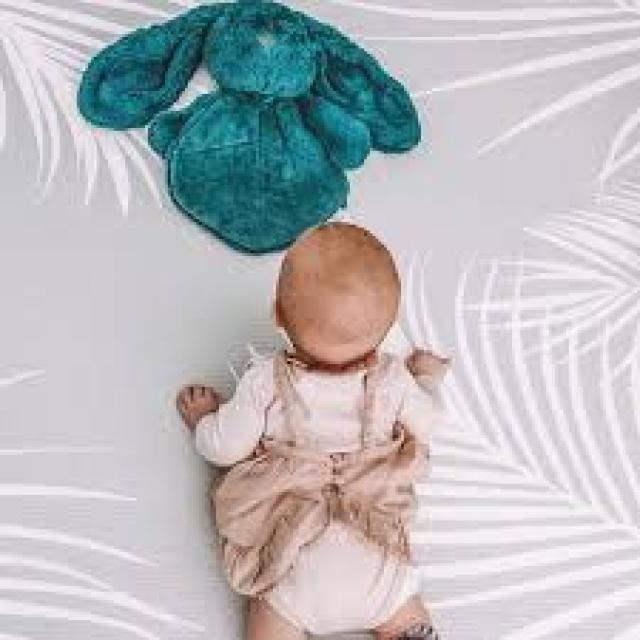soft-toy: (78, 0, 420, 252)
